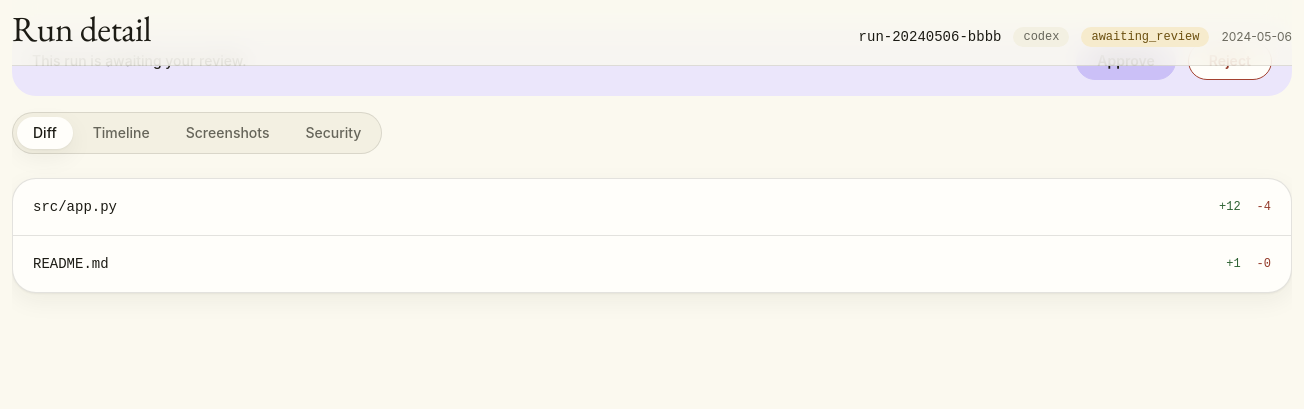
it: shows the Run_Event records in chronological order (Requirement 20.3)
What coordinates should you click on to do the following:
click the tab "Timeline"
I would click on:
 (121, 133)
Its box is [77,117,166,149].
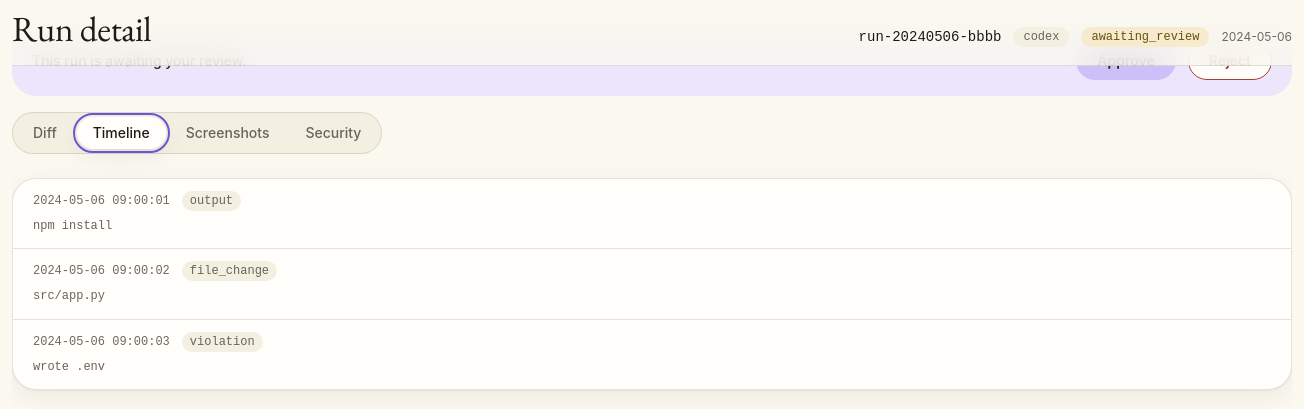
Now the number of list items with test id "timeline-event" is 3, box [13,179,1291,249]; [13,249,1291,320]; [33,332,263,374]
Now the list item with test id "timeline-event" shows "output", box [190,194,233,208]
Now the list item with test id "timeline-event" shows "2024-05-06 09:00:01", box [33,194,170,208]
